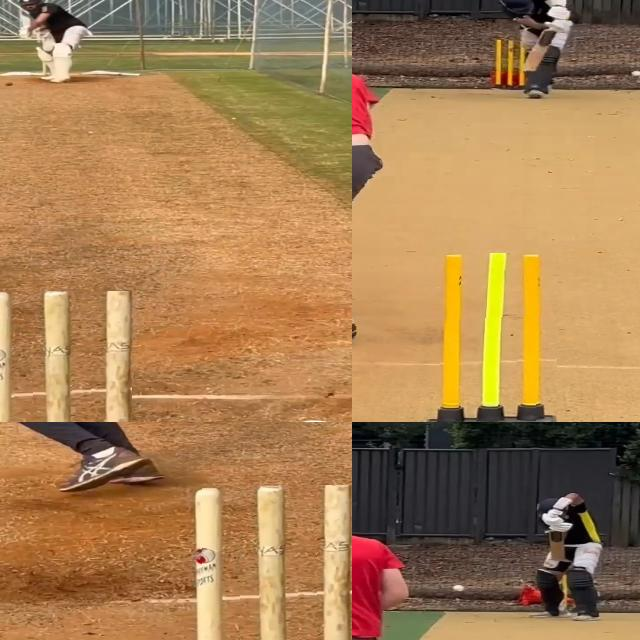Cricket ball: (452, 582, 467, 592), (631, 70, 640, 78), (5, 82, 13, 86)
Stumps: (192, 485, 352, 640), (430, 253, 558, 422), (0, 291, 133, 422), (496, 37, 526, 90)
